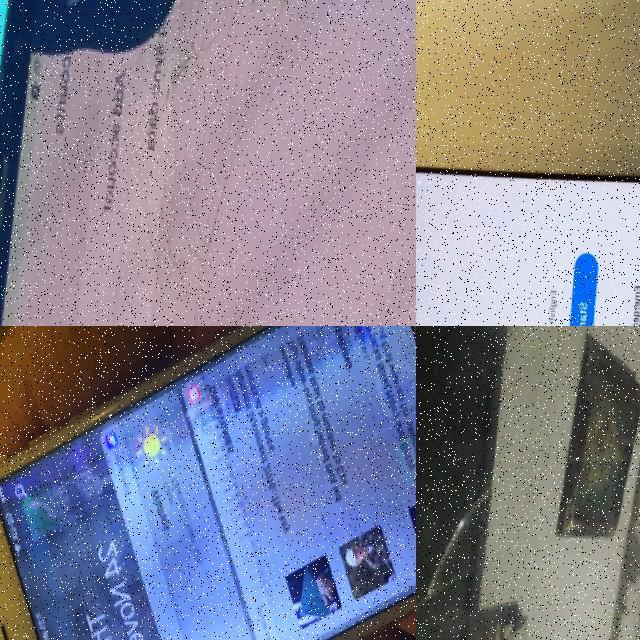dead pixel: (5, 0, 188, 91)
screen crack: (145, 0, 310, 326), (416, 448, 522, 640)
